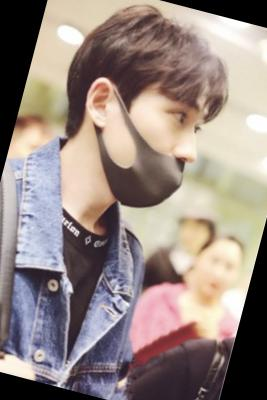mask_weared_incorrect: (85, 88, 208, 219)
